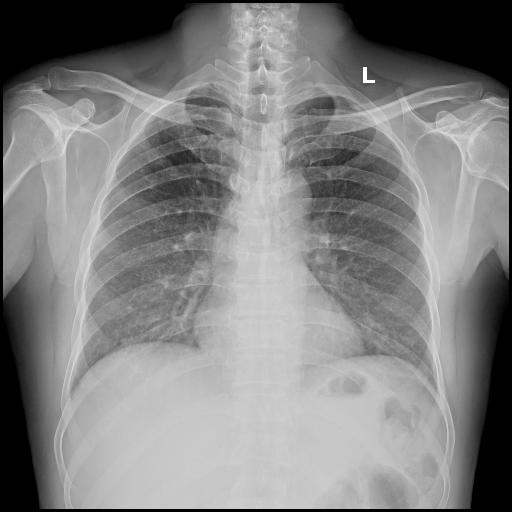ILD: (258, 10, 374, 250), (20, 84, 152, 274)
Pleural thickening: (268, 87, 314, 107), (329, 84, 361, 110)
